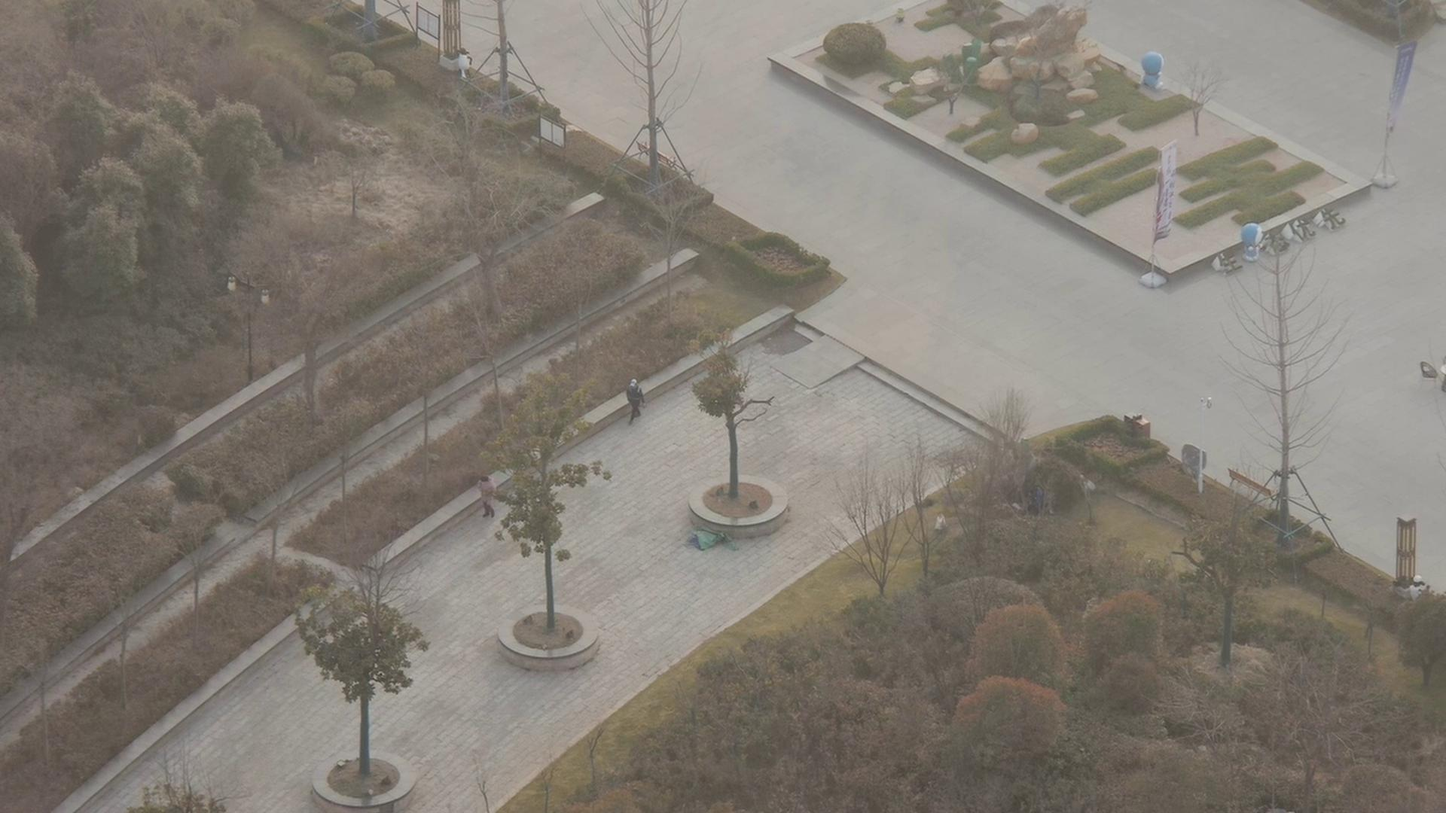human: (617, 359, 652, 425), (477, 460, 505, 517)
